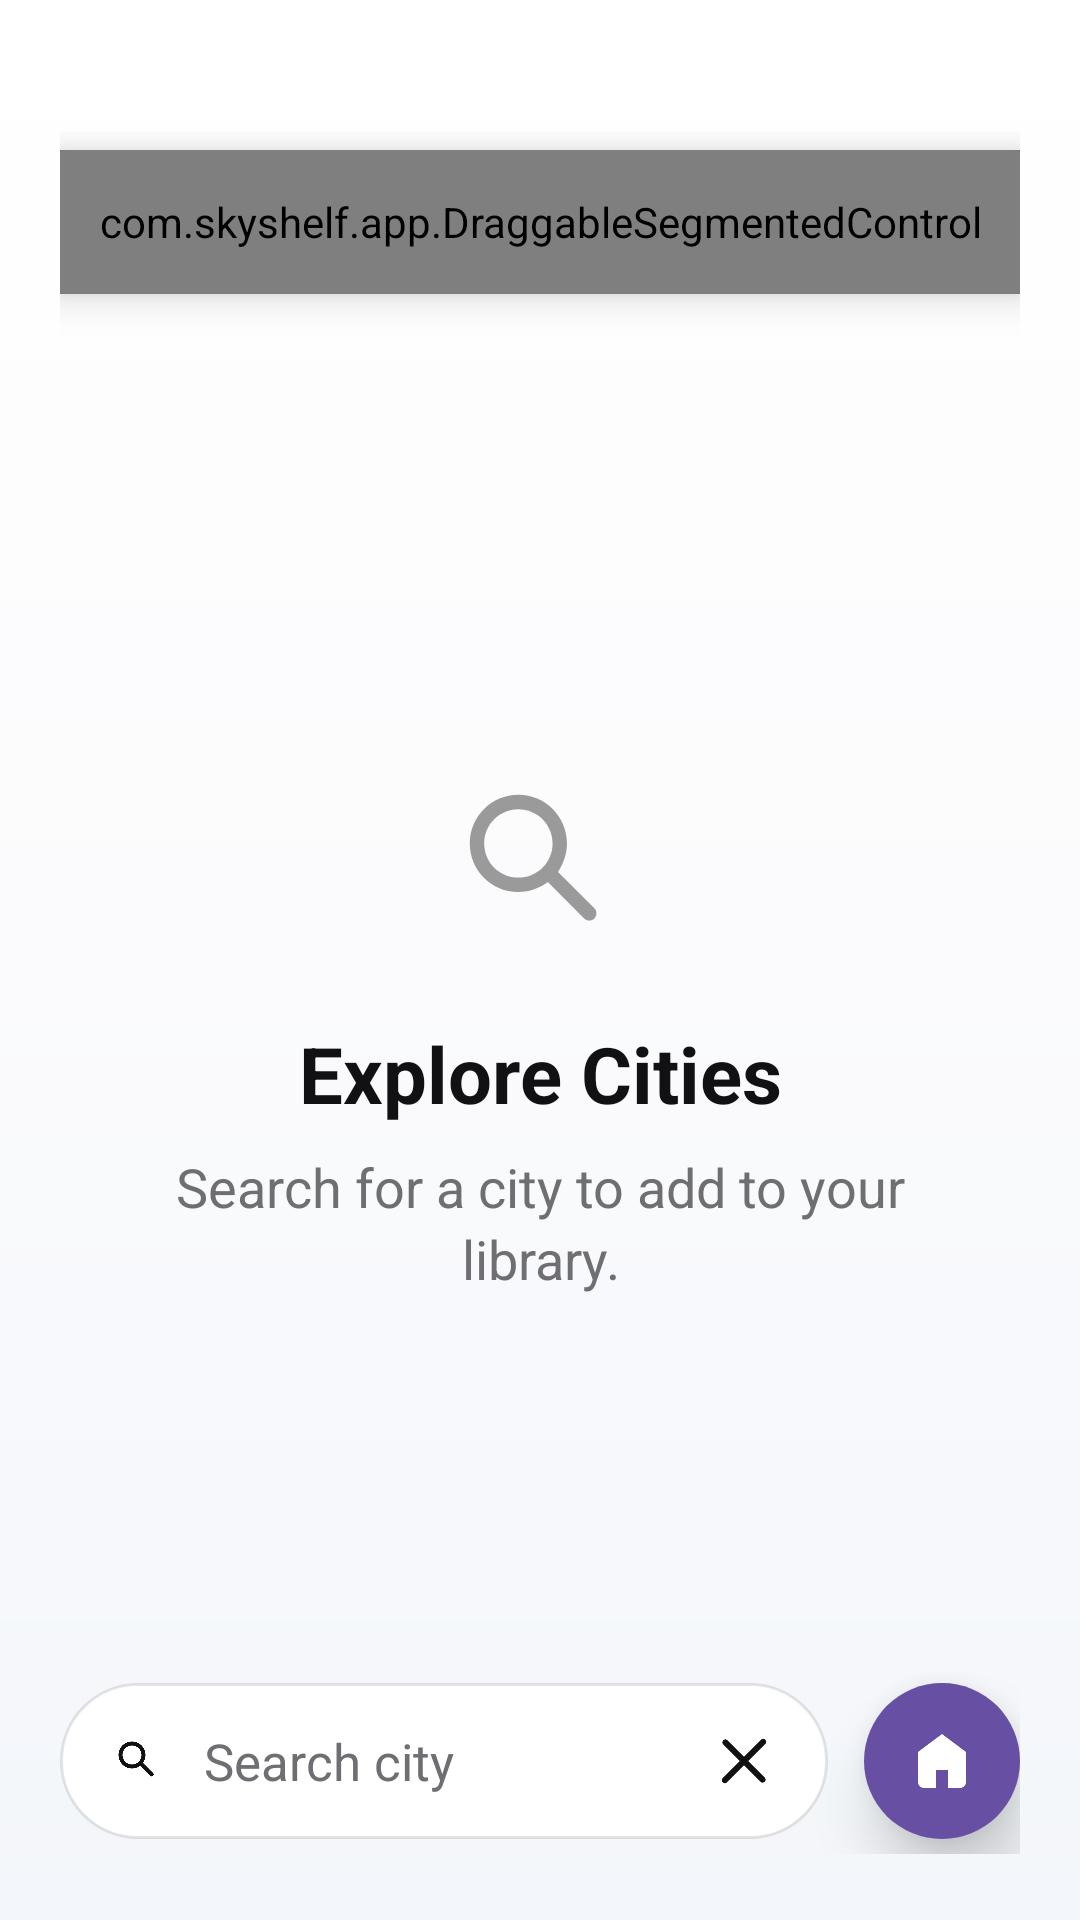

Screen size 1080x1920. Icon name, then its box in pixels as (x1, y1, x2, y2):
Clear text: (722, 1739, 766, 1783)
Home: (864, 1683, 1020, 1839)
